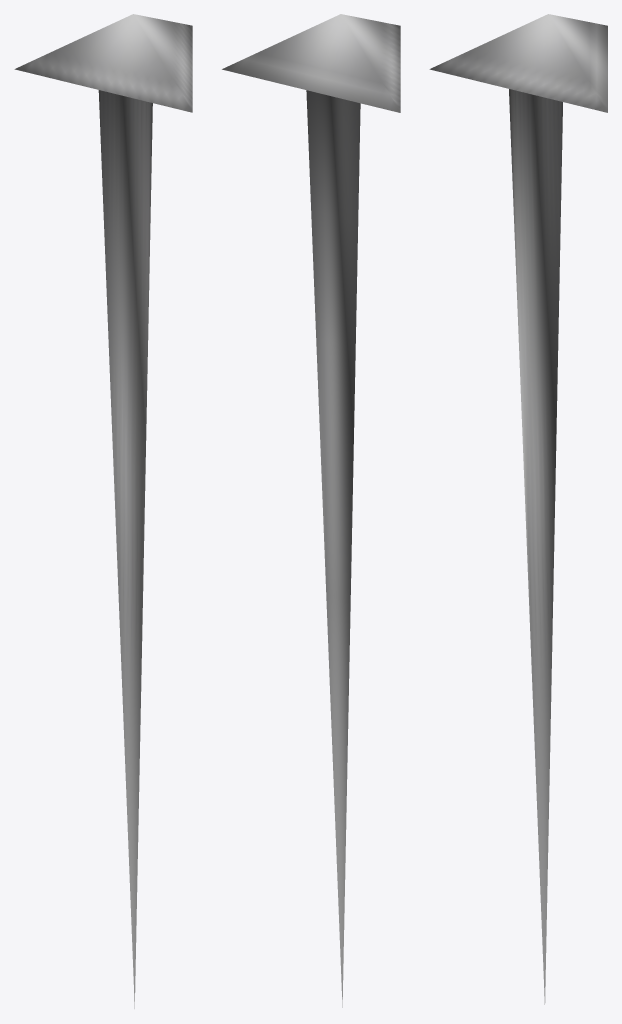
Rendered from jsf_Nail.fbx.
3 renders of one model, left to right at view 1: azimuth 30°, elevation 25°; view 2: azimuth 150°, elevation 25°; view 3: azimuth 270°, elevation 25°, orthographic.
Visible parts, largest first — view 1: jsf_Nail; view 2: jsf_Nail; view 3: jsf_Nail.
Boxes of the visible parts, x1,y1,x2,y2 form: jsf_Nail: (14, 14, 192, 1008); jsf_Nail: (222, 14, 400, 1007); jsf_Nail: (429, 14, 607, 1004).
Size of the model in its own units: 1.36 by 7.22 by 1.18.
